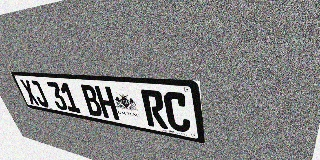1: (58, 82, 81, 113)
3: (46, 81, 69, 111)
B: (79, 84, 104, 117)
C: (162, 91, 191, 133)
H: (94, 85, 120, 120)
J: (28, 80, 50, 107)
R: (140, 89, 168, 129)
X: (19, 79, 40, 106)
